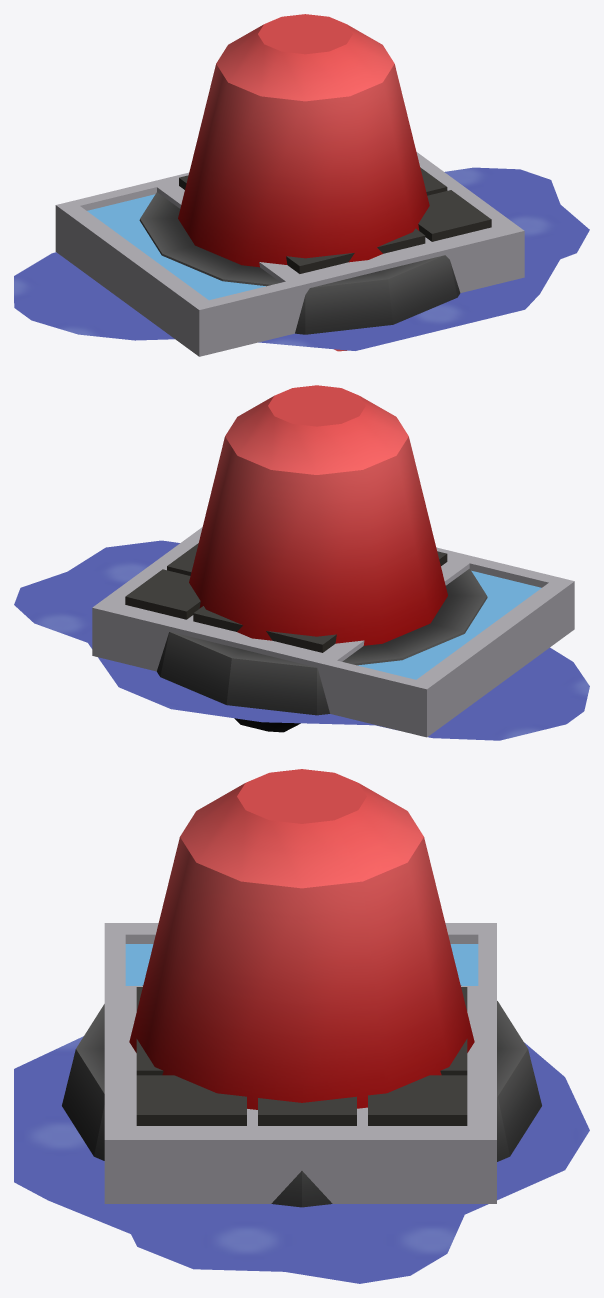
Rendered from New_Asset.fbx.
3 renders of one model, top to bottom at view 1: azimuth 30°, elevation 25°; view 2: azimuth 150°, elevation 25°; view 3: azimuth 270°, elevation 25°, orthographic. The views are drawn at different scales.
Parts seen in each view (by area): view 1: Warninglight, Khoa_Mat_Khau, Bai_Sinh; view 2: Warninglight, Khoa_Mat_Khau, Bai_Sinh, Thuoc; view 3: Warninglight, Khoa_Mat_Khau, Bai_Sinh.
Part boxes in pixels (x1,y1,x2,y2): Warninglight: (139,14,460,334); Khoa_Mat_Khau: (55,152,524,356); Bai_Sinh: (14,167,589,350); Warninglight: (157,385,487,715); Khoa_Mat_Khau: (92,527,574,737); Bai_Sinh: (14,540,589,740); Thuoc: (234,718,300,732); Warninglight: (62,769,541,1207); Khoa_Mat_Khau: (104,923,496,1203); Bai_Sinh: (14,1036,589,1283).
Size of the model in its own units: 3.35 by 1.67 by 2.29.
